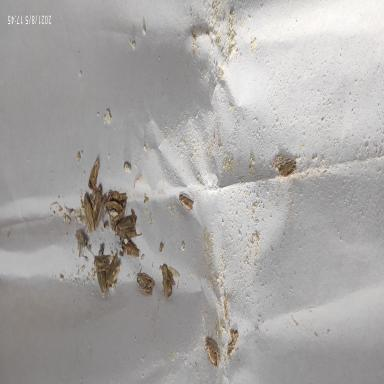pbw: (114, 208, 142, 237), (162, 264, 180, 300), (136, 266, 154, 296), (94, 190, 107, 230), (88, 156, 100, 192), (90, 252, 111, 272), (119, 238, 140, 258), (84, 193, 94, 235), (106, 264, 121, 288), (106, 250, 118, 280), (92, 186, 102, 221), (96, 268, 107, 298), (105, 201, 124, 218), (279, 160, 296, 178), (108, 189, 126, 203), (179, 194, 194, 210), (206, 346, 217, 366), (205, 337, 218, 353)
